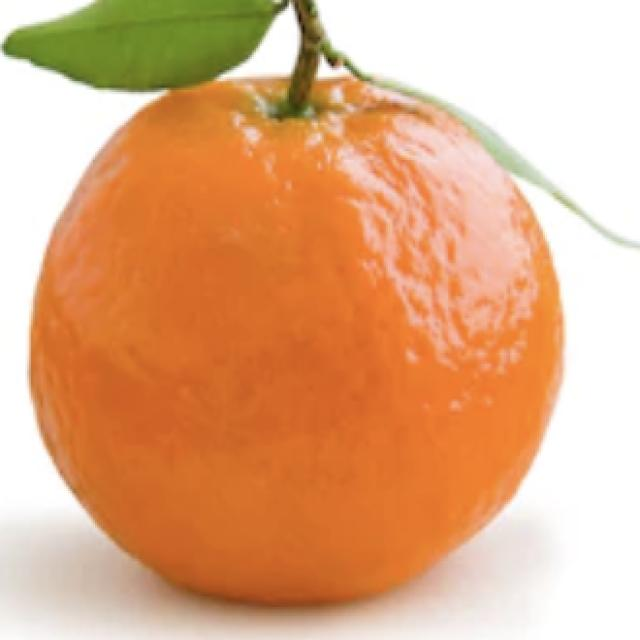orange: (24, 65, 576, 608)
